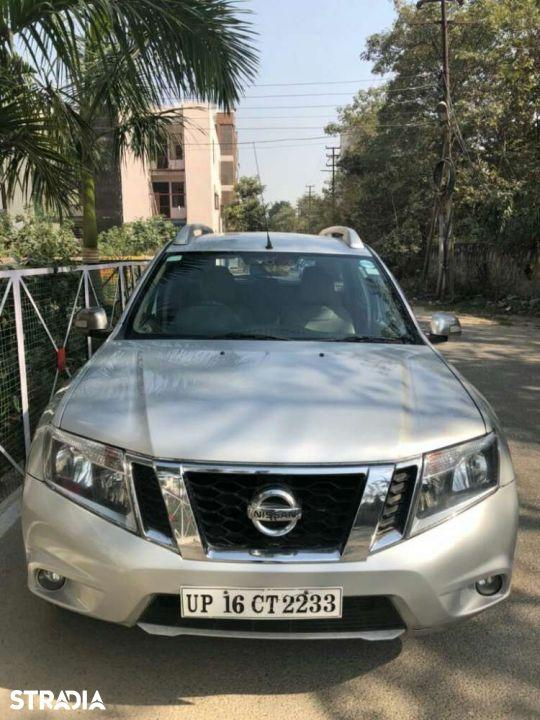License-Plate: (184, 581, 347, 635)
